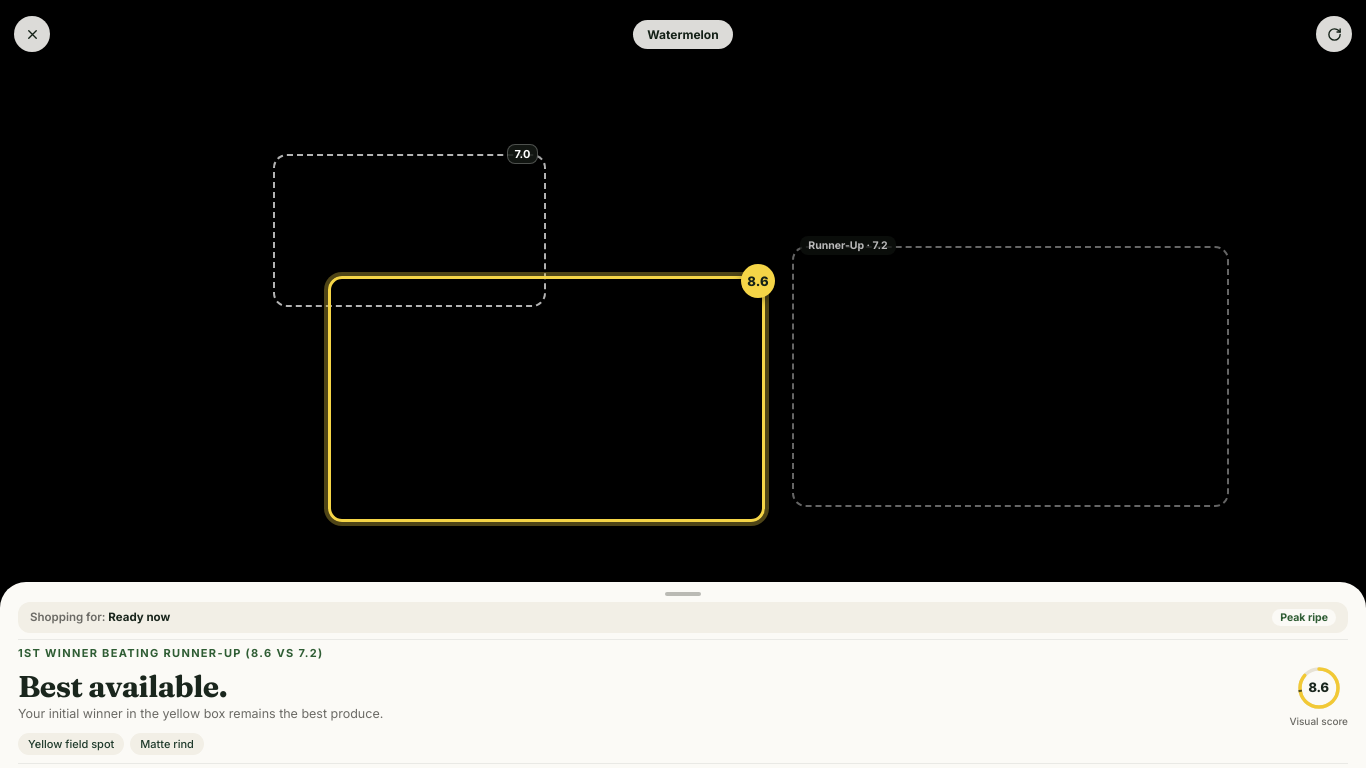
Test: ResultStage (Mockup Parity) › renders S5B-1 (Runner-Up Beaten) with previous mark tick and confirmation card
// Expand bottom sheet to see headline and details
Click the button with test id "sheet-drag-area" at (683, 594), box x1=665 y1=592 x2=701 y2=596
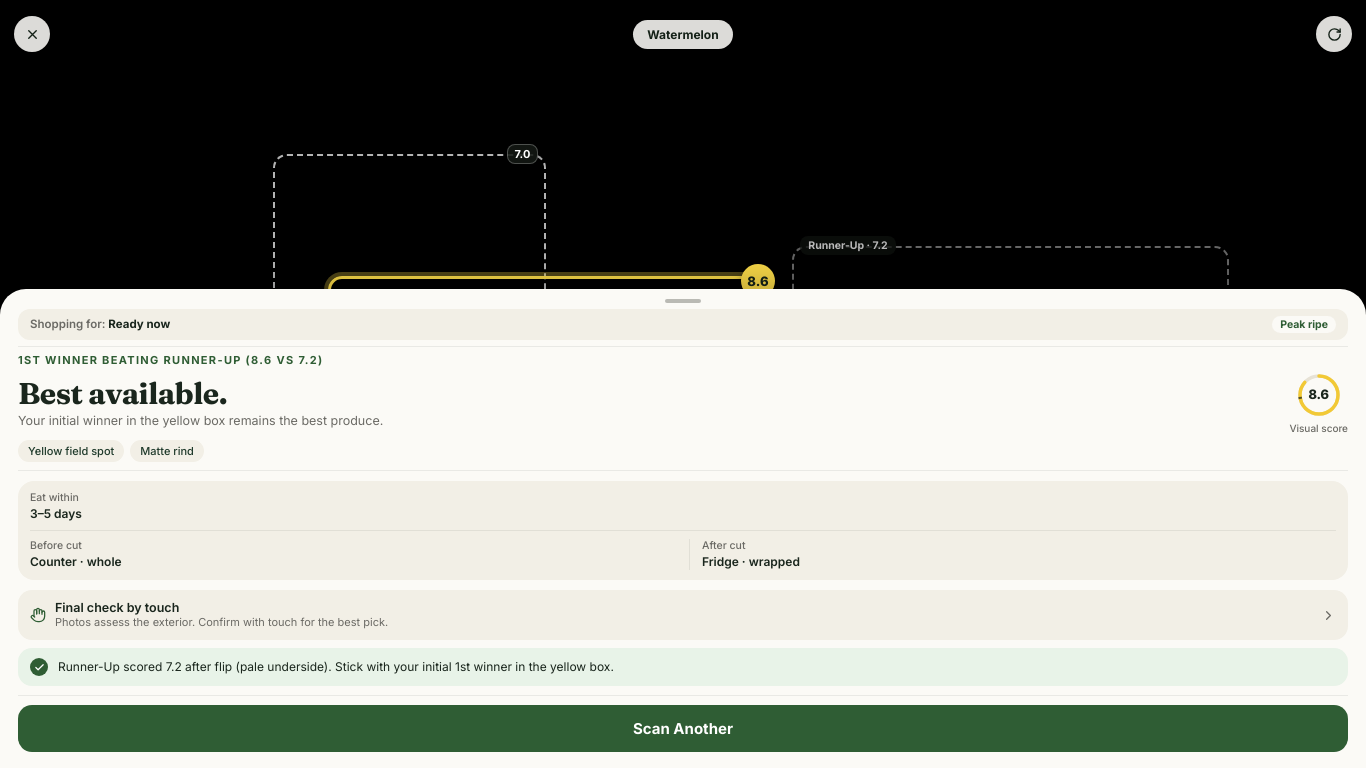
Expected: the text "1ST WINNER BEATING RUNNER-UP (8.6 VS 7.2)" is shown, x1=18 y1=353 x2=323 y2=367
Expected: the element with test id "confirmation-card" shows "Runner-Up scored 7.2 after flip", x1=58 y1=659 x2=614 y2=674
Expected: the button with test id "cta-scan-another" is shown, x1=18 y1=705 x2=1348 y2=752
